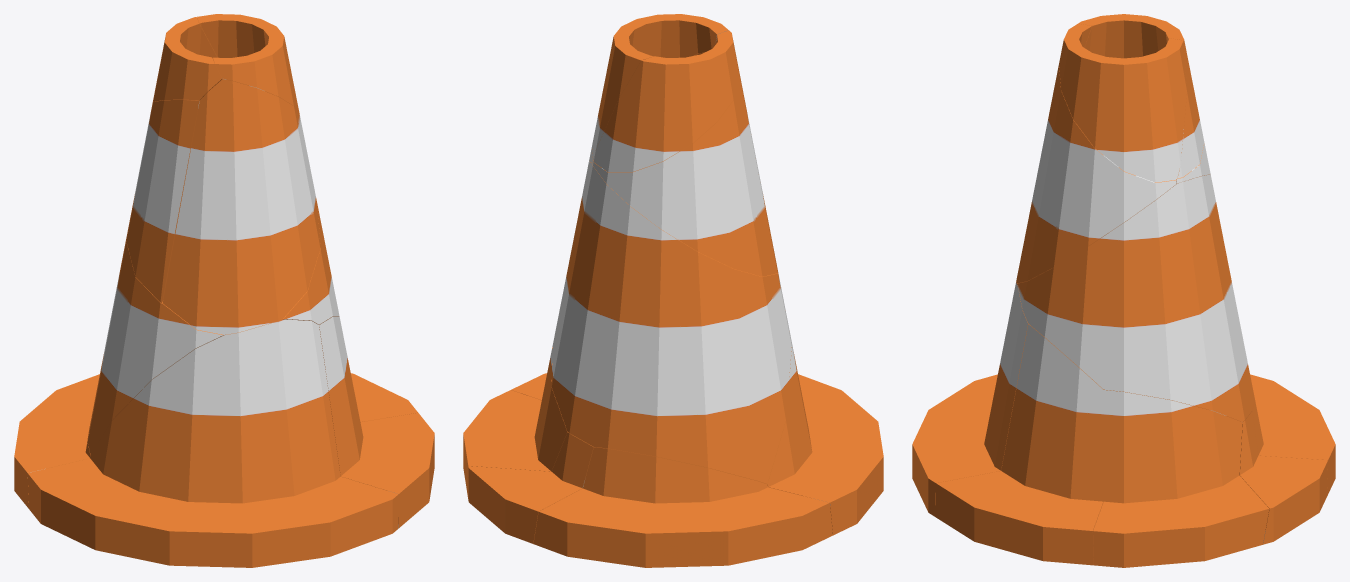
Rendered from cone_pedacos.glb.
3 renders of one model, left to right at view 1: azimuth 30°, elevation 25°; view 2: azimuth 150°, elevation 25°; view 3: azimuth 270°, elevation 25°, orthographic.
Parts seen in each view (by area): view 1: Cylinder_cell.004, Cylinder_cell, Cylinder_cell.006, Cylinder_cell.007, Cylinder_cell.001, Cylinder_cell.008, Cylinder_cell.009, Cylinder_cell.002, Cylinder_cell.005; view 2: Cylinder_cell.006, Cylinder_cell.008, Cylinder_cell.001, Cylinder_cell.004, Cylinder_cell.002, Cylinder_cell.005, Cylinder_cell.003, Cylinder_cell.009; view 3: Cylinder_cell.006, Cylinder_cell.005, Cylinder_cell.007, Cylinder_cell.009, Cylinder_cell, Cylinder_cell.004, Cylinder_cell.003, Cylinder_cell.008, Cylinder_cell.002.
Part boxes in pixels (x1,y1,x2,y2): Cylinder_cell.004: (27, 319, 398, 567); Cylinder_cell: (162, 79, 320, 334); Cylinder_cell.006: (87, 206, 339, 454); Cylinder_cell.007: (319, 316, 434, 528); Cylinder_cell.001: (126, 100, 199, 302); Cylinder_cell.008: (14, 374, 99, 508); Cylinder_cell.009: (197, 14, 299, 113); Cylinder_cell.002: (152, 17, 222, 103); Cylinder_cell.005: (351, 373, 417, 422); Cylinder_cell.006: (551, 162, 791, 483); Cylinder_cell.008: (533, 447, 832, 567); Cylinder_cell.001: (592, 75, 777, 276); Cylinder_cell.004: (767, 297, 883, 535); Cylinder_cell.002: (593, 30, 740, 172); Cylinder_cell.005: (463, 346, 569, 496); Cylinder_cell.003: (468, 432, 593, 543); Cylinder_cell.009: (592, 14, 728, 158); Cylinder_cell.006: (1017, 174, 1254, 421); Cylinder_cell.005: (1093, 390, 1269, 567); Cylinder_cell.007: (935, 324, 1103, 565); Cylinder_cell.009: (1059, 23, 1186, 182); Cylinder_cell: (1016, 65, 1176, 283); Cylinder_cell.004: (912, 281, 1029, 516); Cylinder_cell.003: (1239, 411, 1327, 544); Cylinder_cell.008: (1250, 374, 1335, 496); Cylinder_cell.002: (1078, 14, 1204, 177).
Bounding box in the file's own units: 3.03 × 3.46 × 3.03.
1 material, 1 textured.
